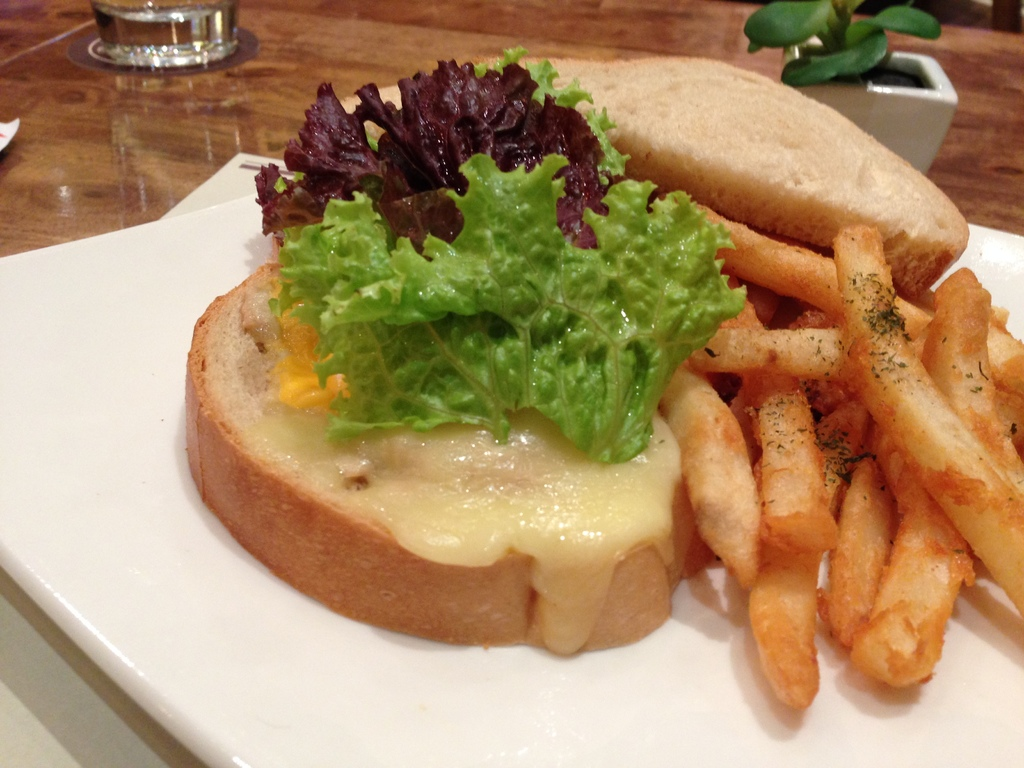French fries: (833, 224, 1023, 606), (664, 204, 947, 351), (849, 419, 974, 707), (914, 270, 1023, 506), (654, 352, 754, 594), (746, 353, 828, 570), (829, 451, 912, 665), (746, 508, 820, 729), (686, 315, 852, 387)
